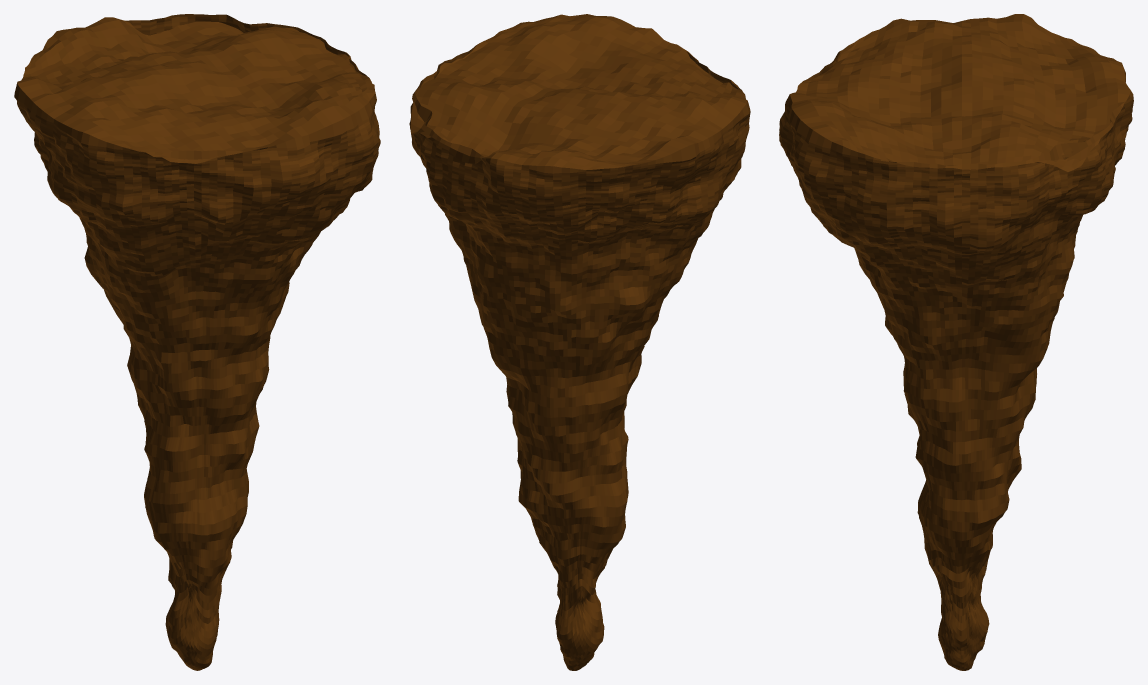
File: Stalactices.fbx
The picture shows the model from 3 angles, left to right: view 1: azimuth 30°, elevation 25°; view 2: azimuth 150°, elevation 25°; view 3: azimuth 270°, elevation 25°; orthographic projection. The views are drawn at different scales.
Visible parts, largest first — view 1: Cube; view 2: Cube; view 3: Cube.
Part boxes in pixels (<box>): Cube: <box>14,14,380,670</box>; Cube: <box>409,14,750,670</box>; Cube: <box>779,14,1133,670</box>.
Bounding box in the file's own units: 818 × 1562 × 848.
